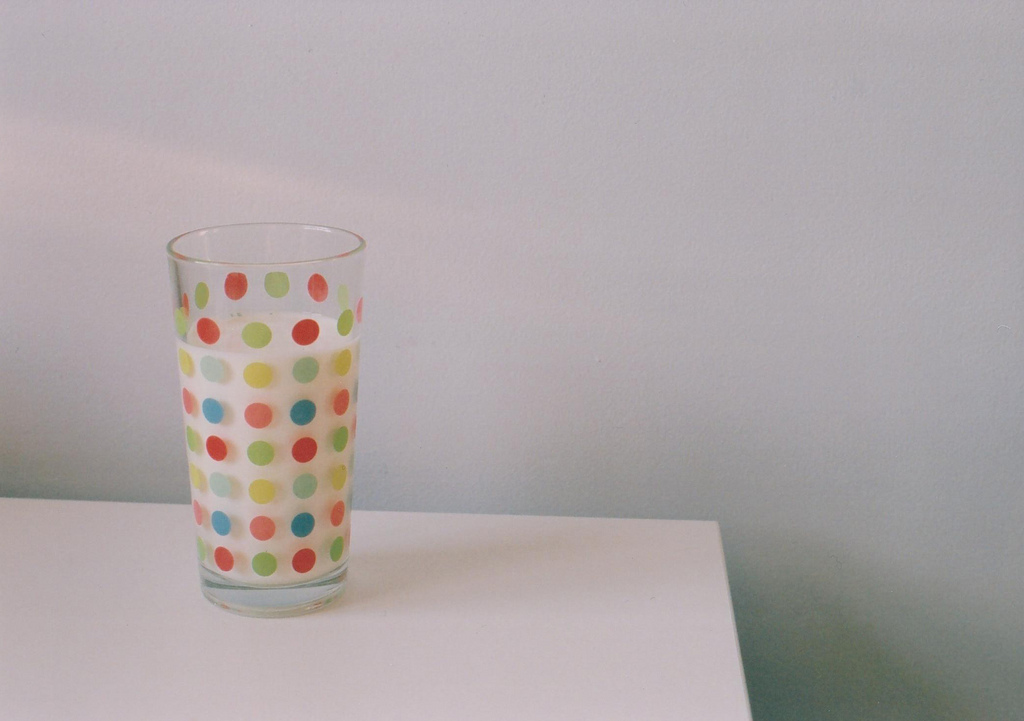glass of milk: (164, 233, 369, 618)
